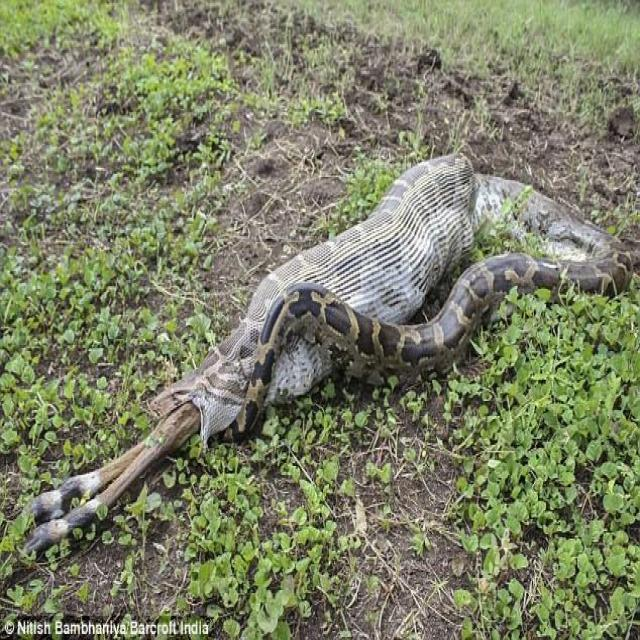Snake: (20, 150, 634, 558)
